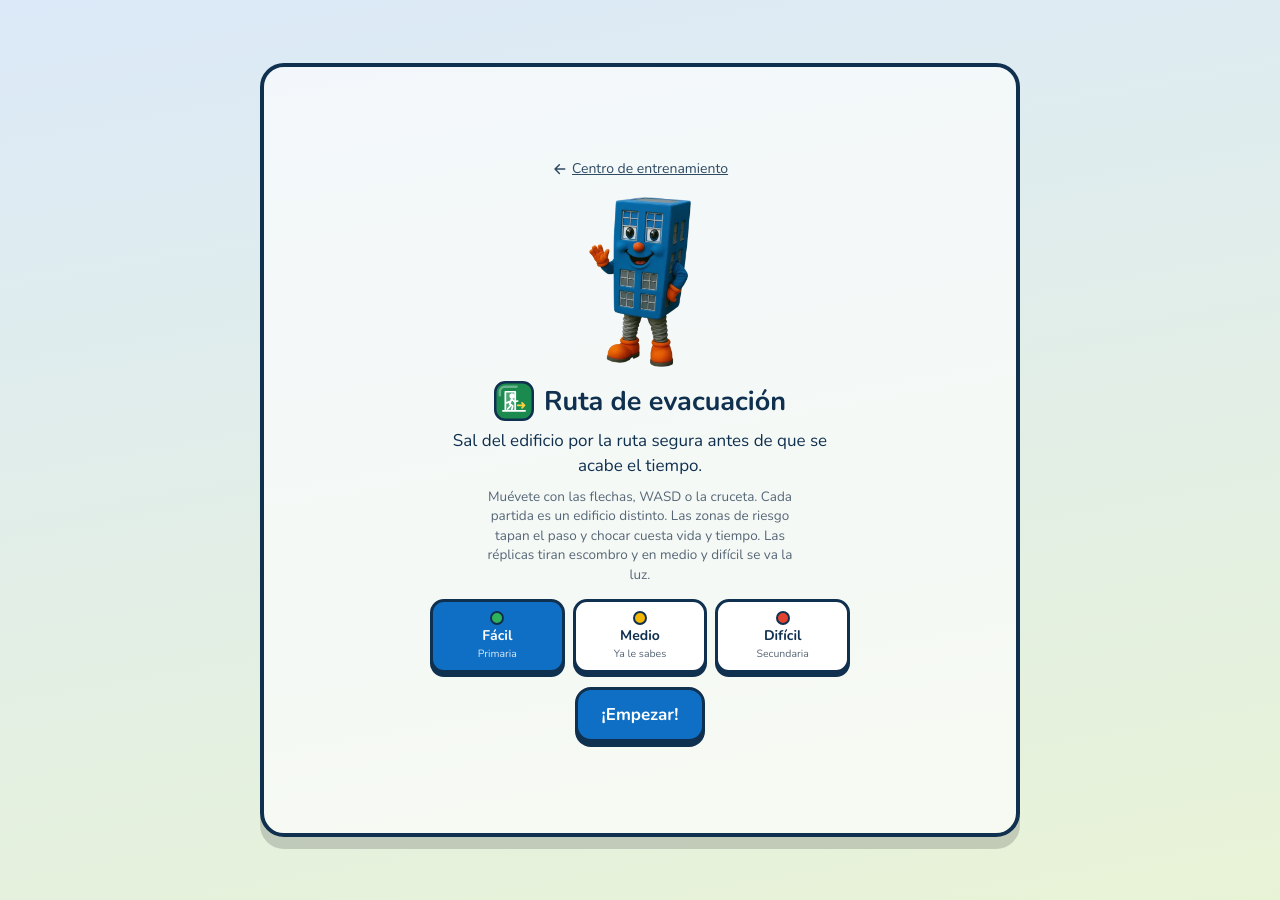
Test: ruta de evacuación difícil de verdad › difícil: casi a ciegas, solo se ve lo de junto y la salida brilla
Click the radio button with class "dificultad" showing "Difícil Secundaria": (783, 636) left=715, top=598, right=850, bottom=672
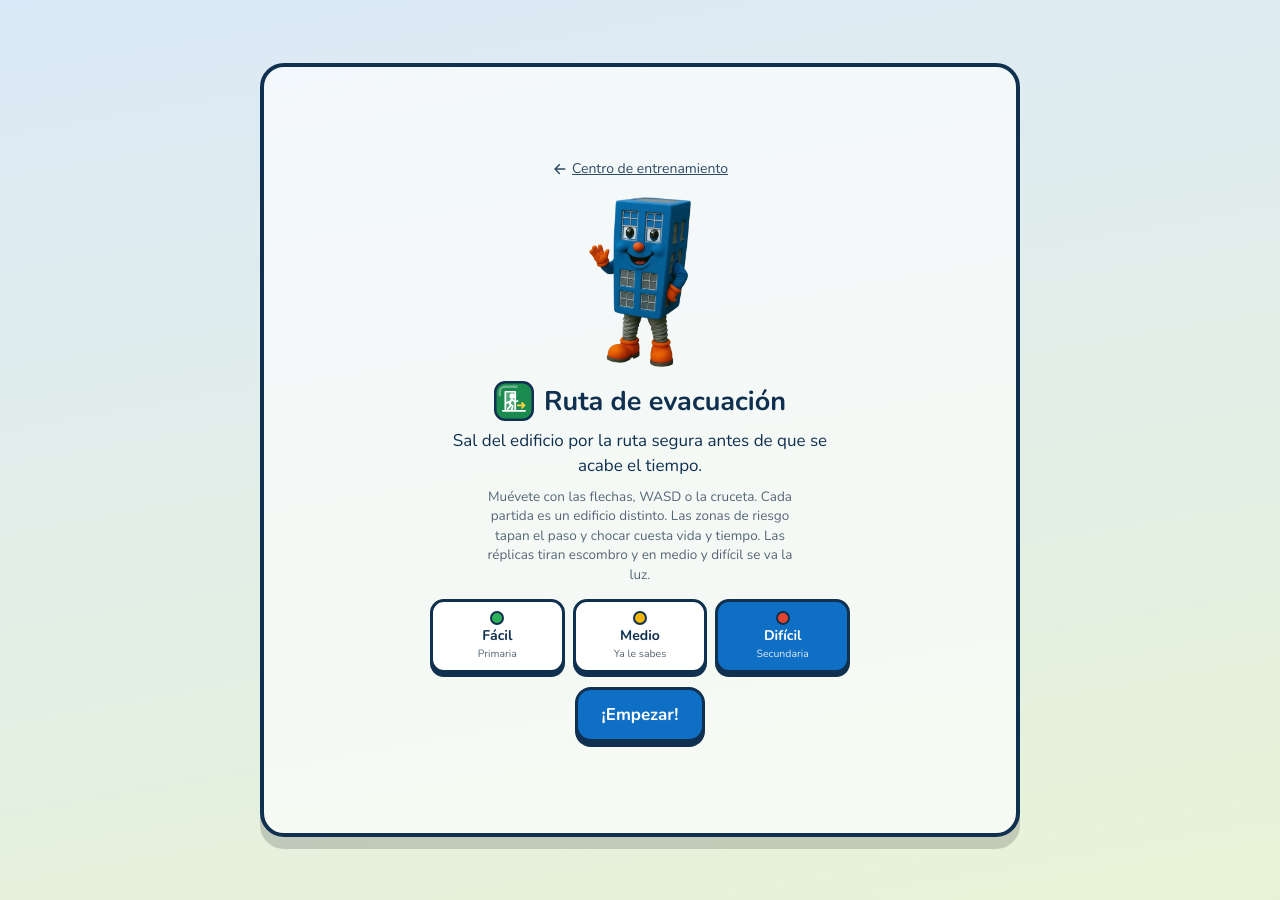
Click the button "¡Empezar!": (640, 714) left=574, top=686, right=705, bottom=742
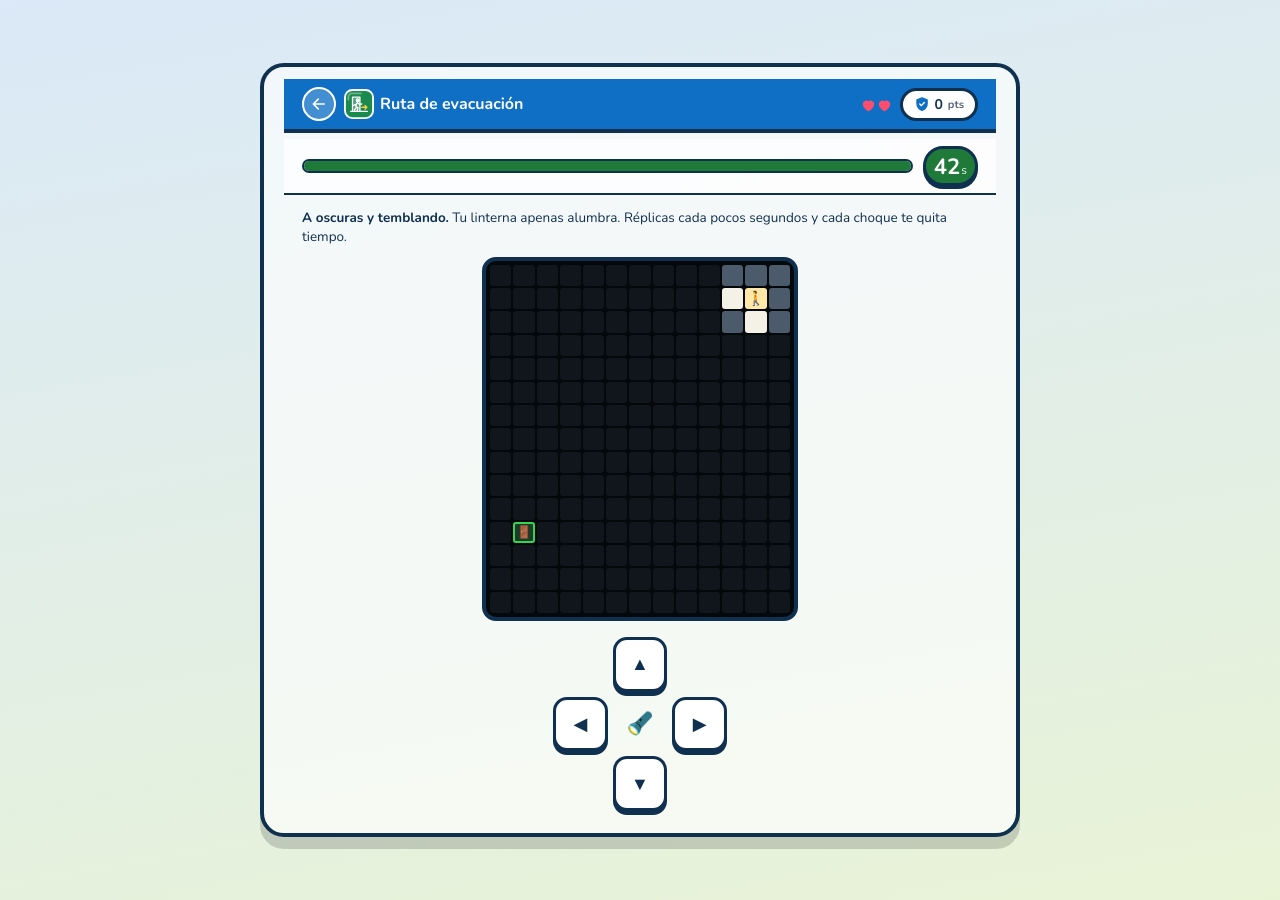
Expected: the number of elements with class "celda" is 195
Expected: the picture with class "mapa" shows "🚪", left=516, top=524, right=532, bottom=540
